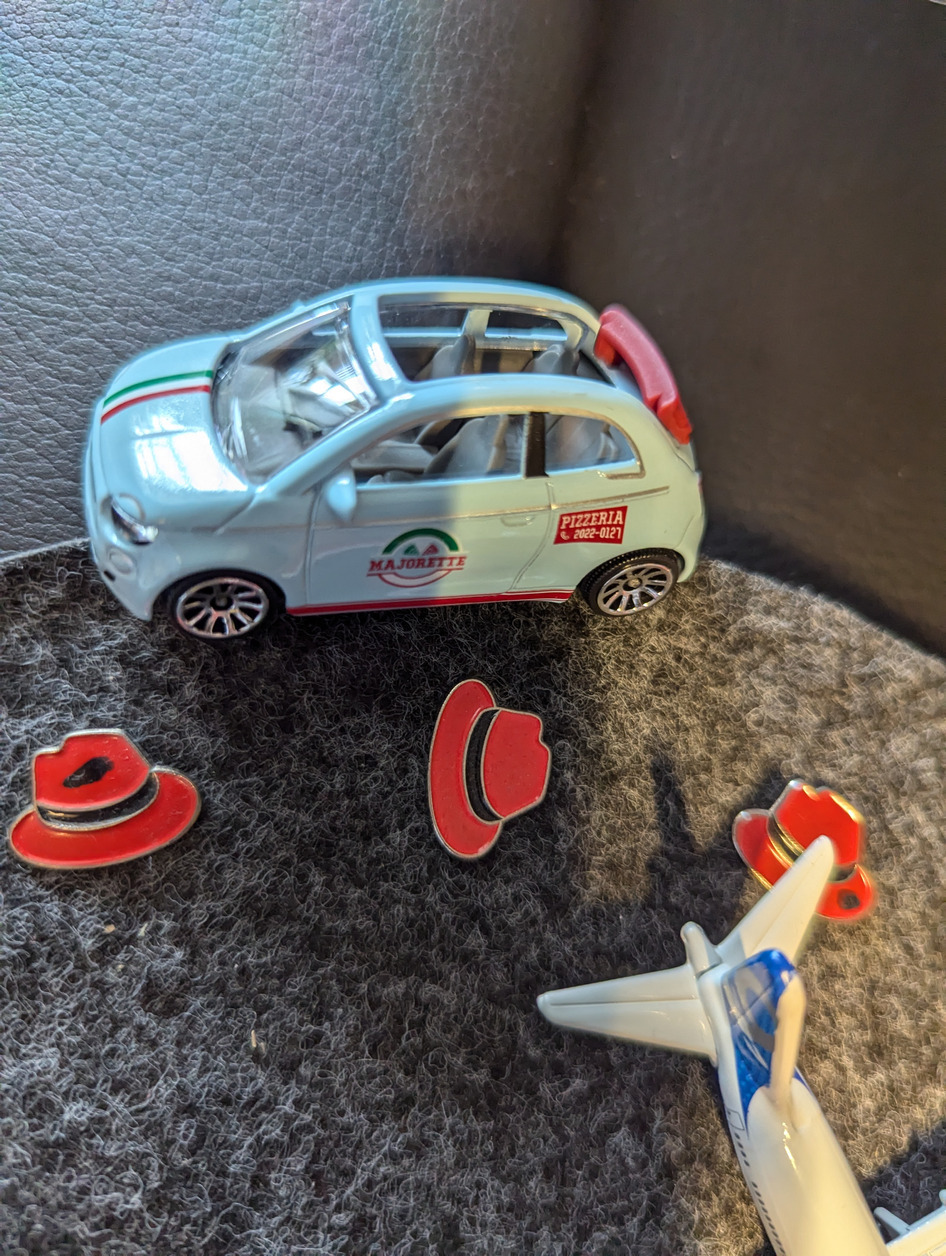Car: (72, 268, 773, 668)
Red-Hat: (1, 698, 216, 887), (714, 741, 899, 943), (418, 657, 563, 894)
Scratch: (45, 747, 133, 798), (825, 875, 887, 918)
